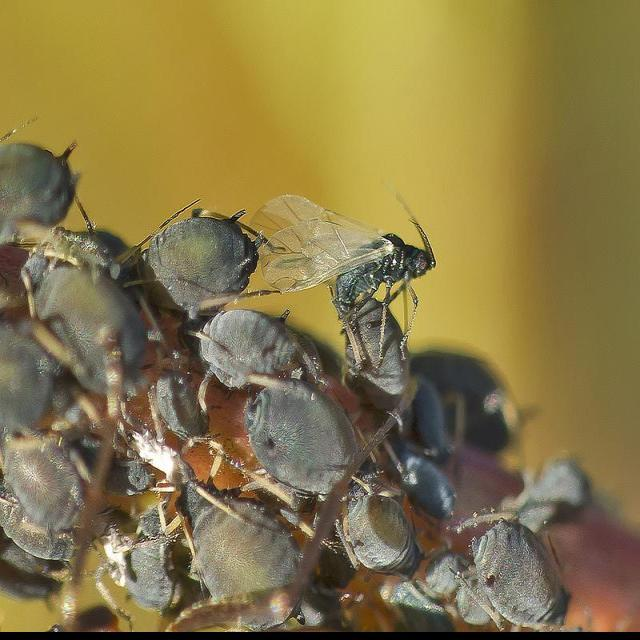Aphids: (242, 165, 448, 345)
